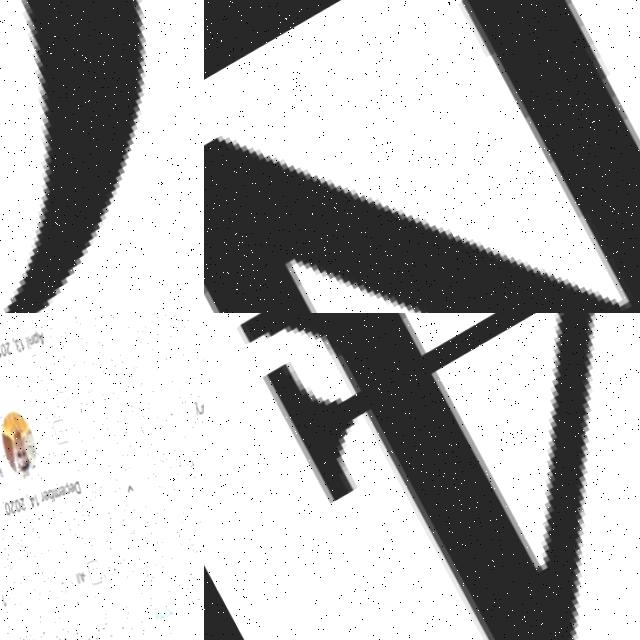0: (7, 504, 21, 523), (0, 506, 10, 525), (0, 348, 7, 367)
1: (14, 344, 26, 360), (28, 501, 39, 516), (0, 599, 5, 615)
2: (2, 505, 16, 525), (12, 503, 26, 522), (0, 347, 13, 364)
3: (8, 343, 22, 363)
4: (21, 500, 36, 519)
N: (204, 0, 640, 313)
